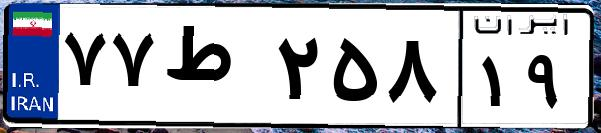1: (475, 38, 525, 113)
2: (270, 28, 330, 110)
5: (330, 28, 385, 110)
7: (57, 26, 110, 100), (110, 28, 158, 98)
8: (385, 28, 445, 110)
9: (525, 38, 570, 115)
ط: (158, 20, 270, 120)
